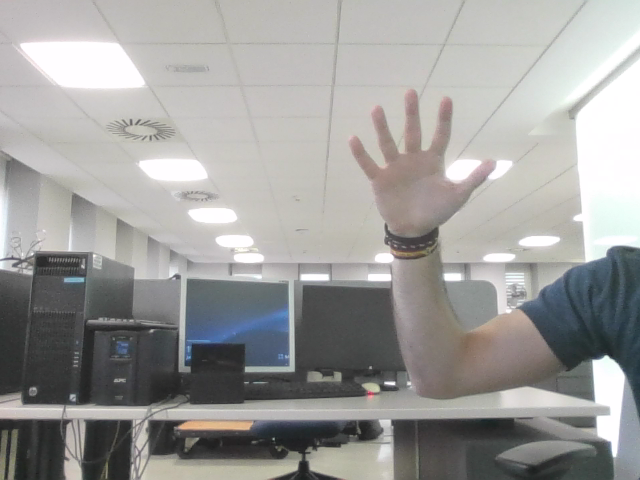Mano Abierta: (359, 101, 483, 209)
